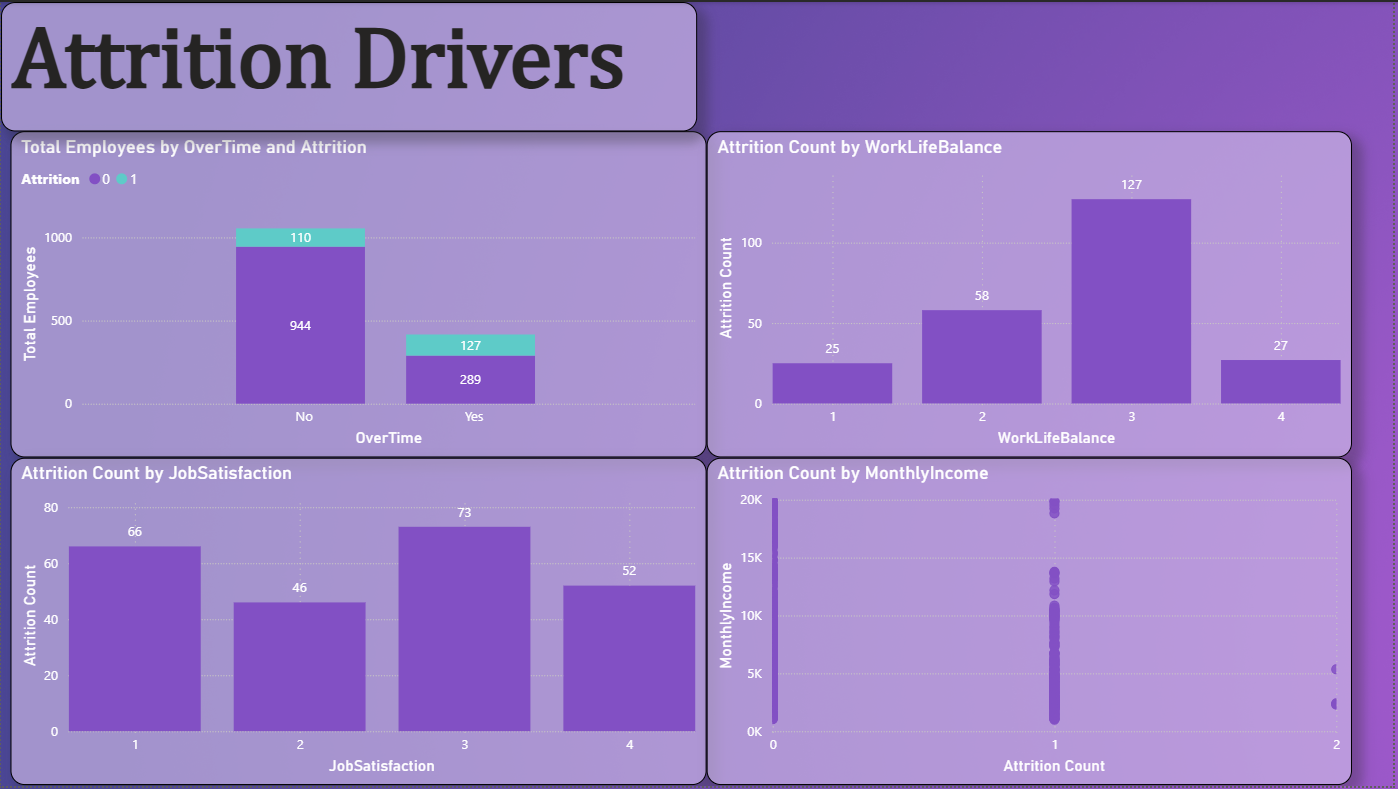

This screenshot's page, from the dashboard's own definition file:
{"tool":"powerbi","page":{"name":"Page 2","canvas":[1280,720],"ordinal":2},"visuals":[{"type":"columnChart","fields":{"Category":["Employee_Attrition_Predictions.OverTime"],"Series":["Employee_Attrition_Predictions.Attrition"],"Y":["Employee_Attrition_Predictions.Total Employees"]},"box":[8.9,118.9,640,300],"z":0},{"type":"clusteredColumnChart","fields":{"Category":["Employee_Attrition_Predictions.JobSatisfaction"],"Y":["Employee_Attrition_Predictions.Attrition Count"]},"box":[8.9,418.9,640,301.1],"z":1000},{"type":"clusteredColumnChart","fields":{"Y":["Employee_Attrition_Predictions.Attrition Count"],"Category":["Employee_Attrition_Predictions.WorkLifeBalance"]},"box":[648.9,118.9,593.3,300],"z":2000},{"type":"scatterChart","fields":{"X":["Employee_Attrition_Predictions.Attrition Count"],"Y":["Employee_Attrition_Predictions.MonthlyIncome"]},"box":[648.9,418.9,593.3,301.1],"z":3000},{"type":"textbox","box":[0,0,640,118.9],"z":4000}]}

Visuals, with their boxes in screenshot pixels (x1, y1, x2, y2), scaled from the page's 1280x720 canvas onto the 1398x789 screenshot:
columnChart - Employee_Attrition_Predictions.OverTime x Employee_Attrition_Predictions.Attrition: l=10, t=130, r=709, b=459
clusteredColumnChart - Employee_Attrition_Predictions.JobSatisfaction x Employee_Attrition_Predictions.Attrition Count: l=10, t=459, r=709, b=788
clusteredColumnChart - Employee_Attrition_Predictions.Attrition Count x Employee_Attrition_Predictions.WorkLifeBalance: l=709, t=130, r=1357, b=459
scatterChart - Employee_Attrition_Predictions.Attrition Count x Employee_Attrition_Predictions.MonthlyIncome: l=709, t=459, r=1357, b=788
textbox: l=0, t=0, r=699, b=130
